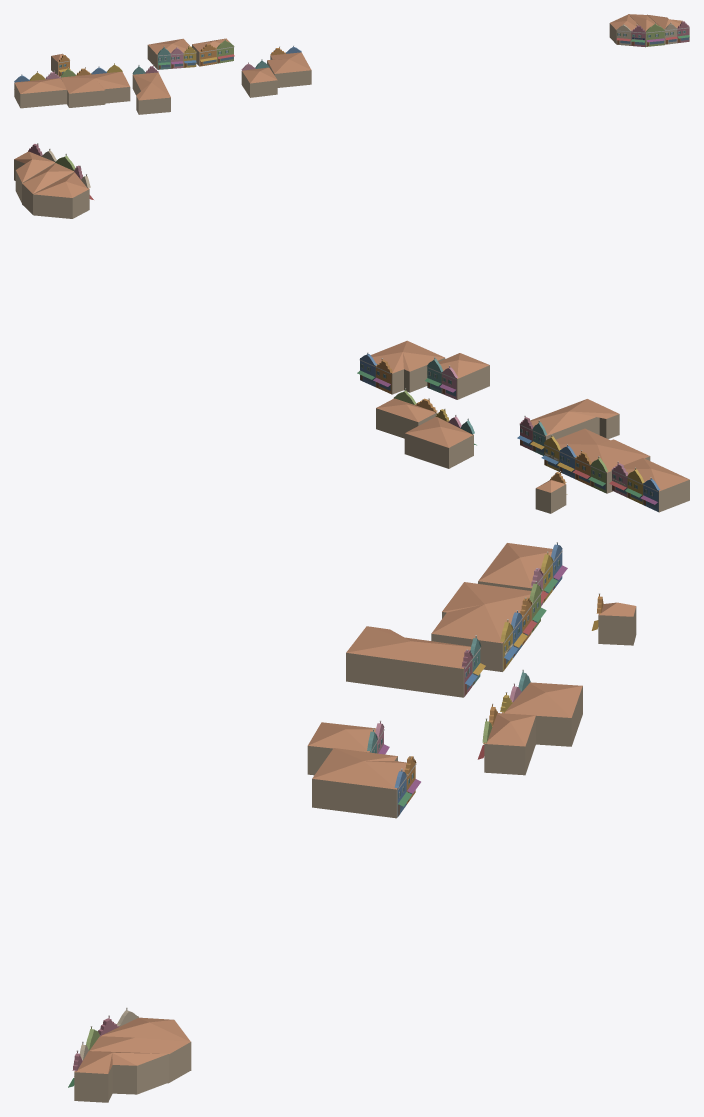
File: ora_schelp.glb
3 renders of one model, top to bottom at view 1: azimuth 30°, elevation 25°; view 2: azimuth 150°, elevation 25°; view 3: azimuth 270°, elevation 25°, orthographic. The views are drawn at different scales.
Visible parts, largest first — view 1: ora_schelp_lod0; view 2: ora_schelp_lod0; view 3: ora_schelp_lod0.
Part boxes in pixels (x1=…): ora_schelp_lod0: x1=14, y1=14, x2=689, y2=114; ora_schelp_lod0: x1=14, y1=143, x2=689, y2=513; ora_schelp_lod0: x1=68, y1=542, x2=636, y2=1102.
Size of what is drawn, in the model's own units: 233 by 13.05 by 102.
Materials: 3 (1 with a texture image).
